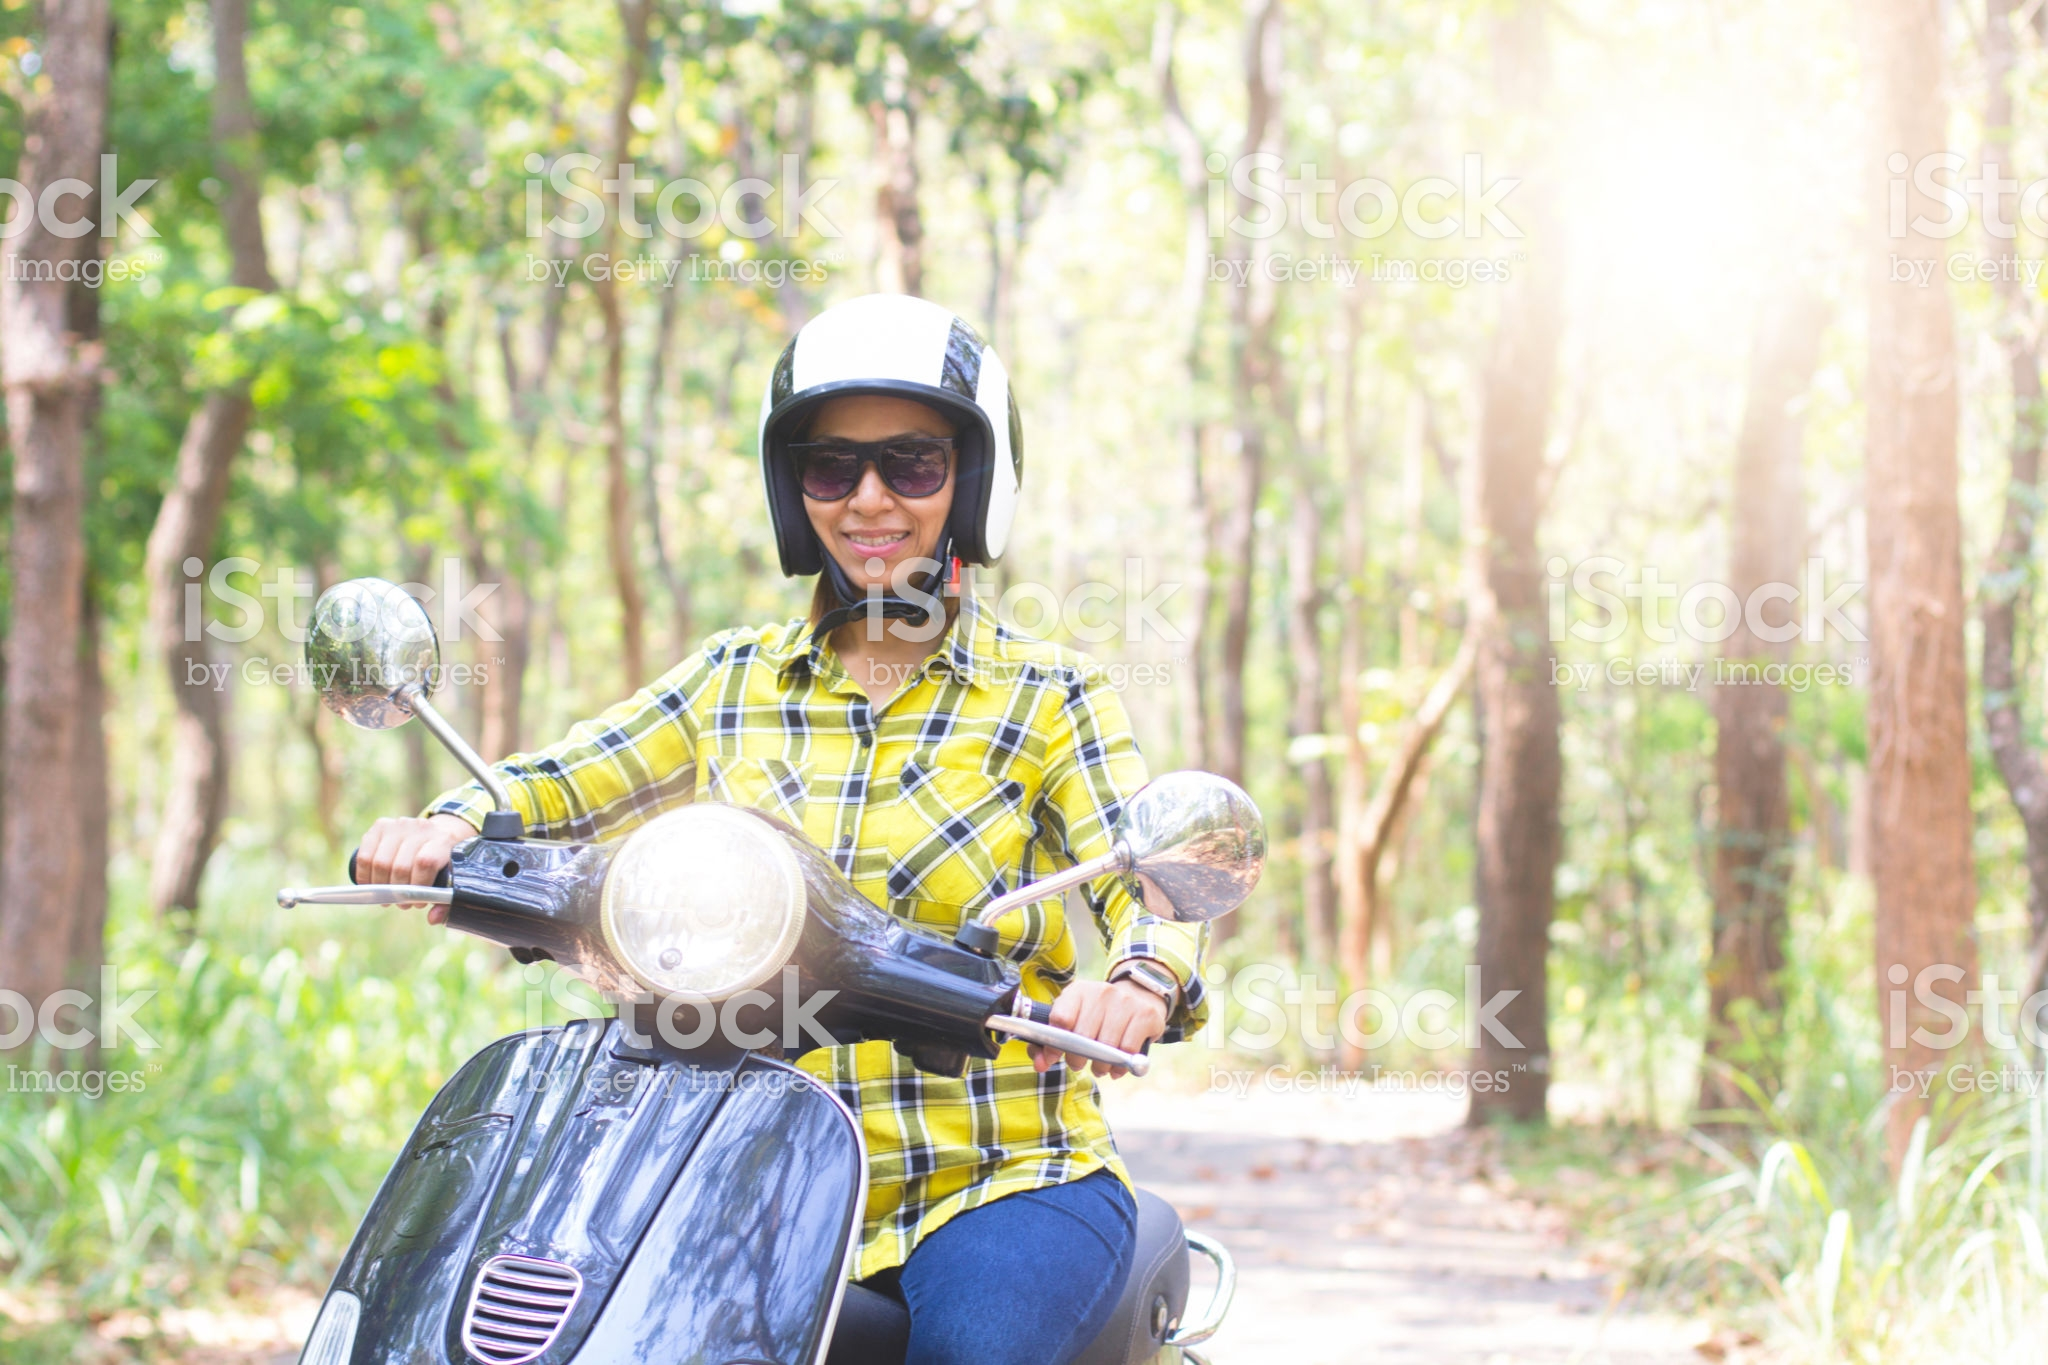helmet: (746, 288, 1040, 602)
